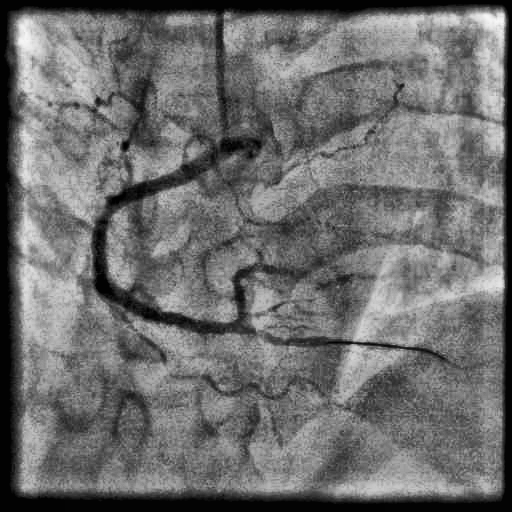pborca: (232, 263, 298, 327)
pda: (236, 325, 329, 347)
rca: (92, 144, 237, 334)
